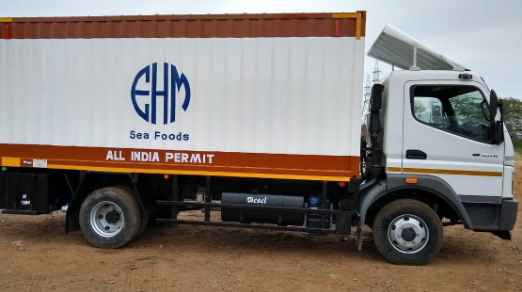truck: (1, 1, 518, 270)
